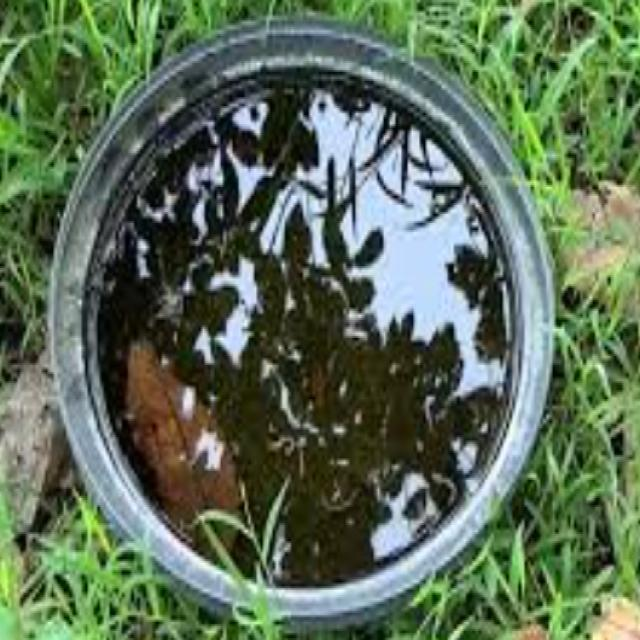Breeding Place: (37, 22, 557, 628)
